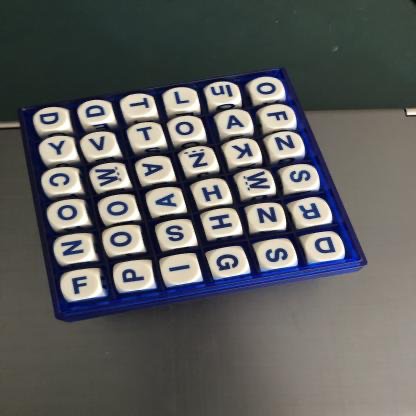a: (137, 157, 174, 183), (148, 189, 185, 214), (219, 110, 252, 135)
c: (43, 169, 80, 193)
d: (307, 232, 345, 263), (34, 108, 70, 131), (80, 101, 113, 125)
f: (62, 270, 102, 301), (262, 106, 297, 130)
g: (211, 249, 248, 277)
h: (204, 209, 241, 237), (194, 180, 231, 207)
i: (162, 256, 200, 286)
in: (207, 83, 240, 104)
k: (227, 140, 261, 164)
l: (164, 88, 198, 111)
n: (55, 236, 94, 264), (249, 204, 286, 232), (269, 132, 304, 158)
o: (104, 227, 142, 255), (101, 196, 138, 223), (49, 201, 87, 227), (171, 116, 205, 142), (251, 78, 284, 100)
p: (116, 262, 155, 293)
r: (293, 199, 331, 226)
s: (258, 240, 298, 268), (158, 220, 196, 249), (283, 165, 321, 191)
t: (121, 94, 158, 119), (130, 123, 164, 148)
v: (83, 132, 117, 158)
w: (92, 164, 130, 190), (239, 170, 277, 196)
y: (40, 137, 76, 162)
z: (182, 148, 216, 172)
